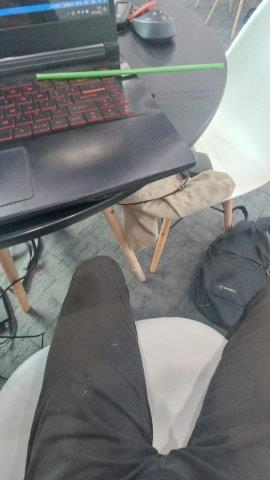sedotan: (37, 63, 222, 80)
